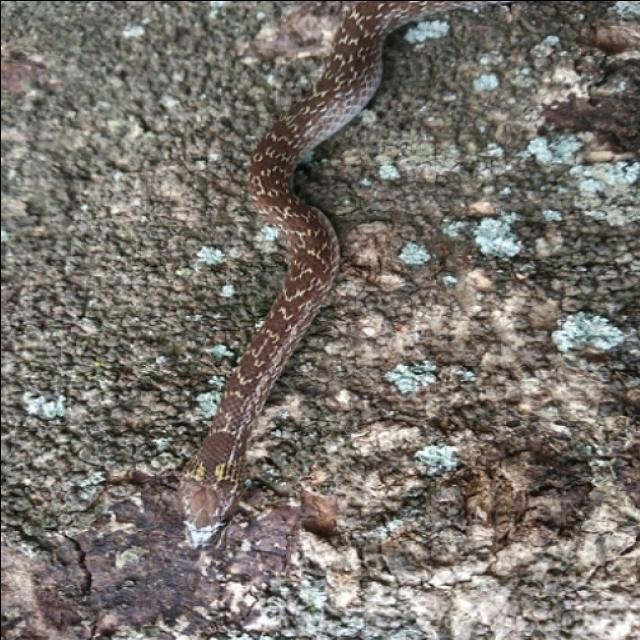snake: (165, 0, 406, 555)
